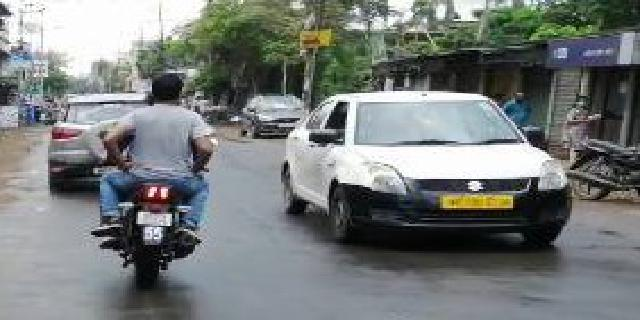Car: (281, 86, 574, 260), (46, 87, 150, 197), (246, 89, 306, 136)
Motorbike: (108, 71, 224, 290)
